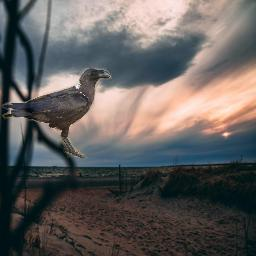Crow: (2, 68, 112, 158)
